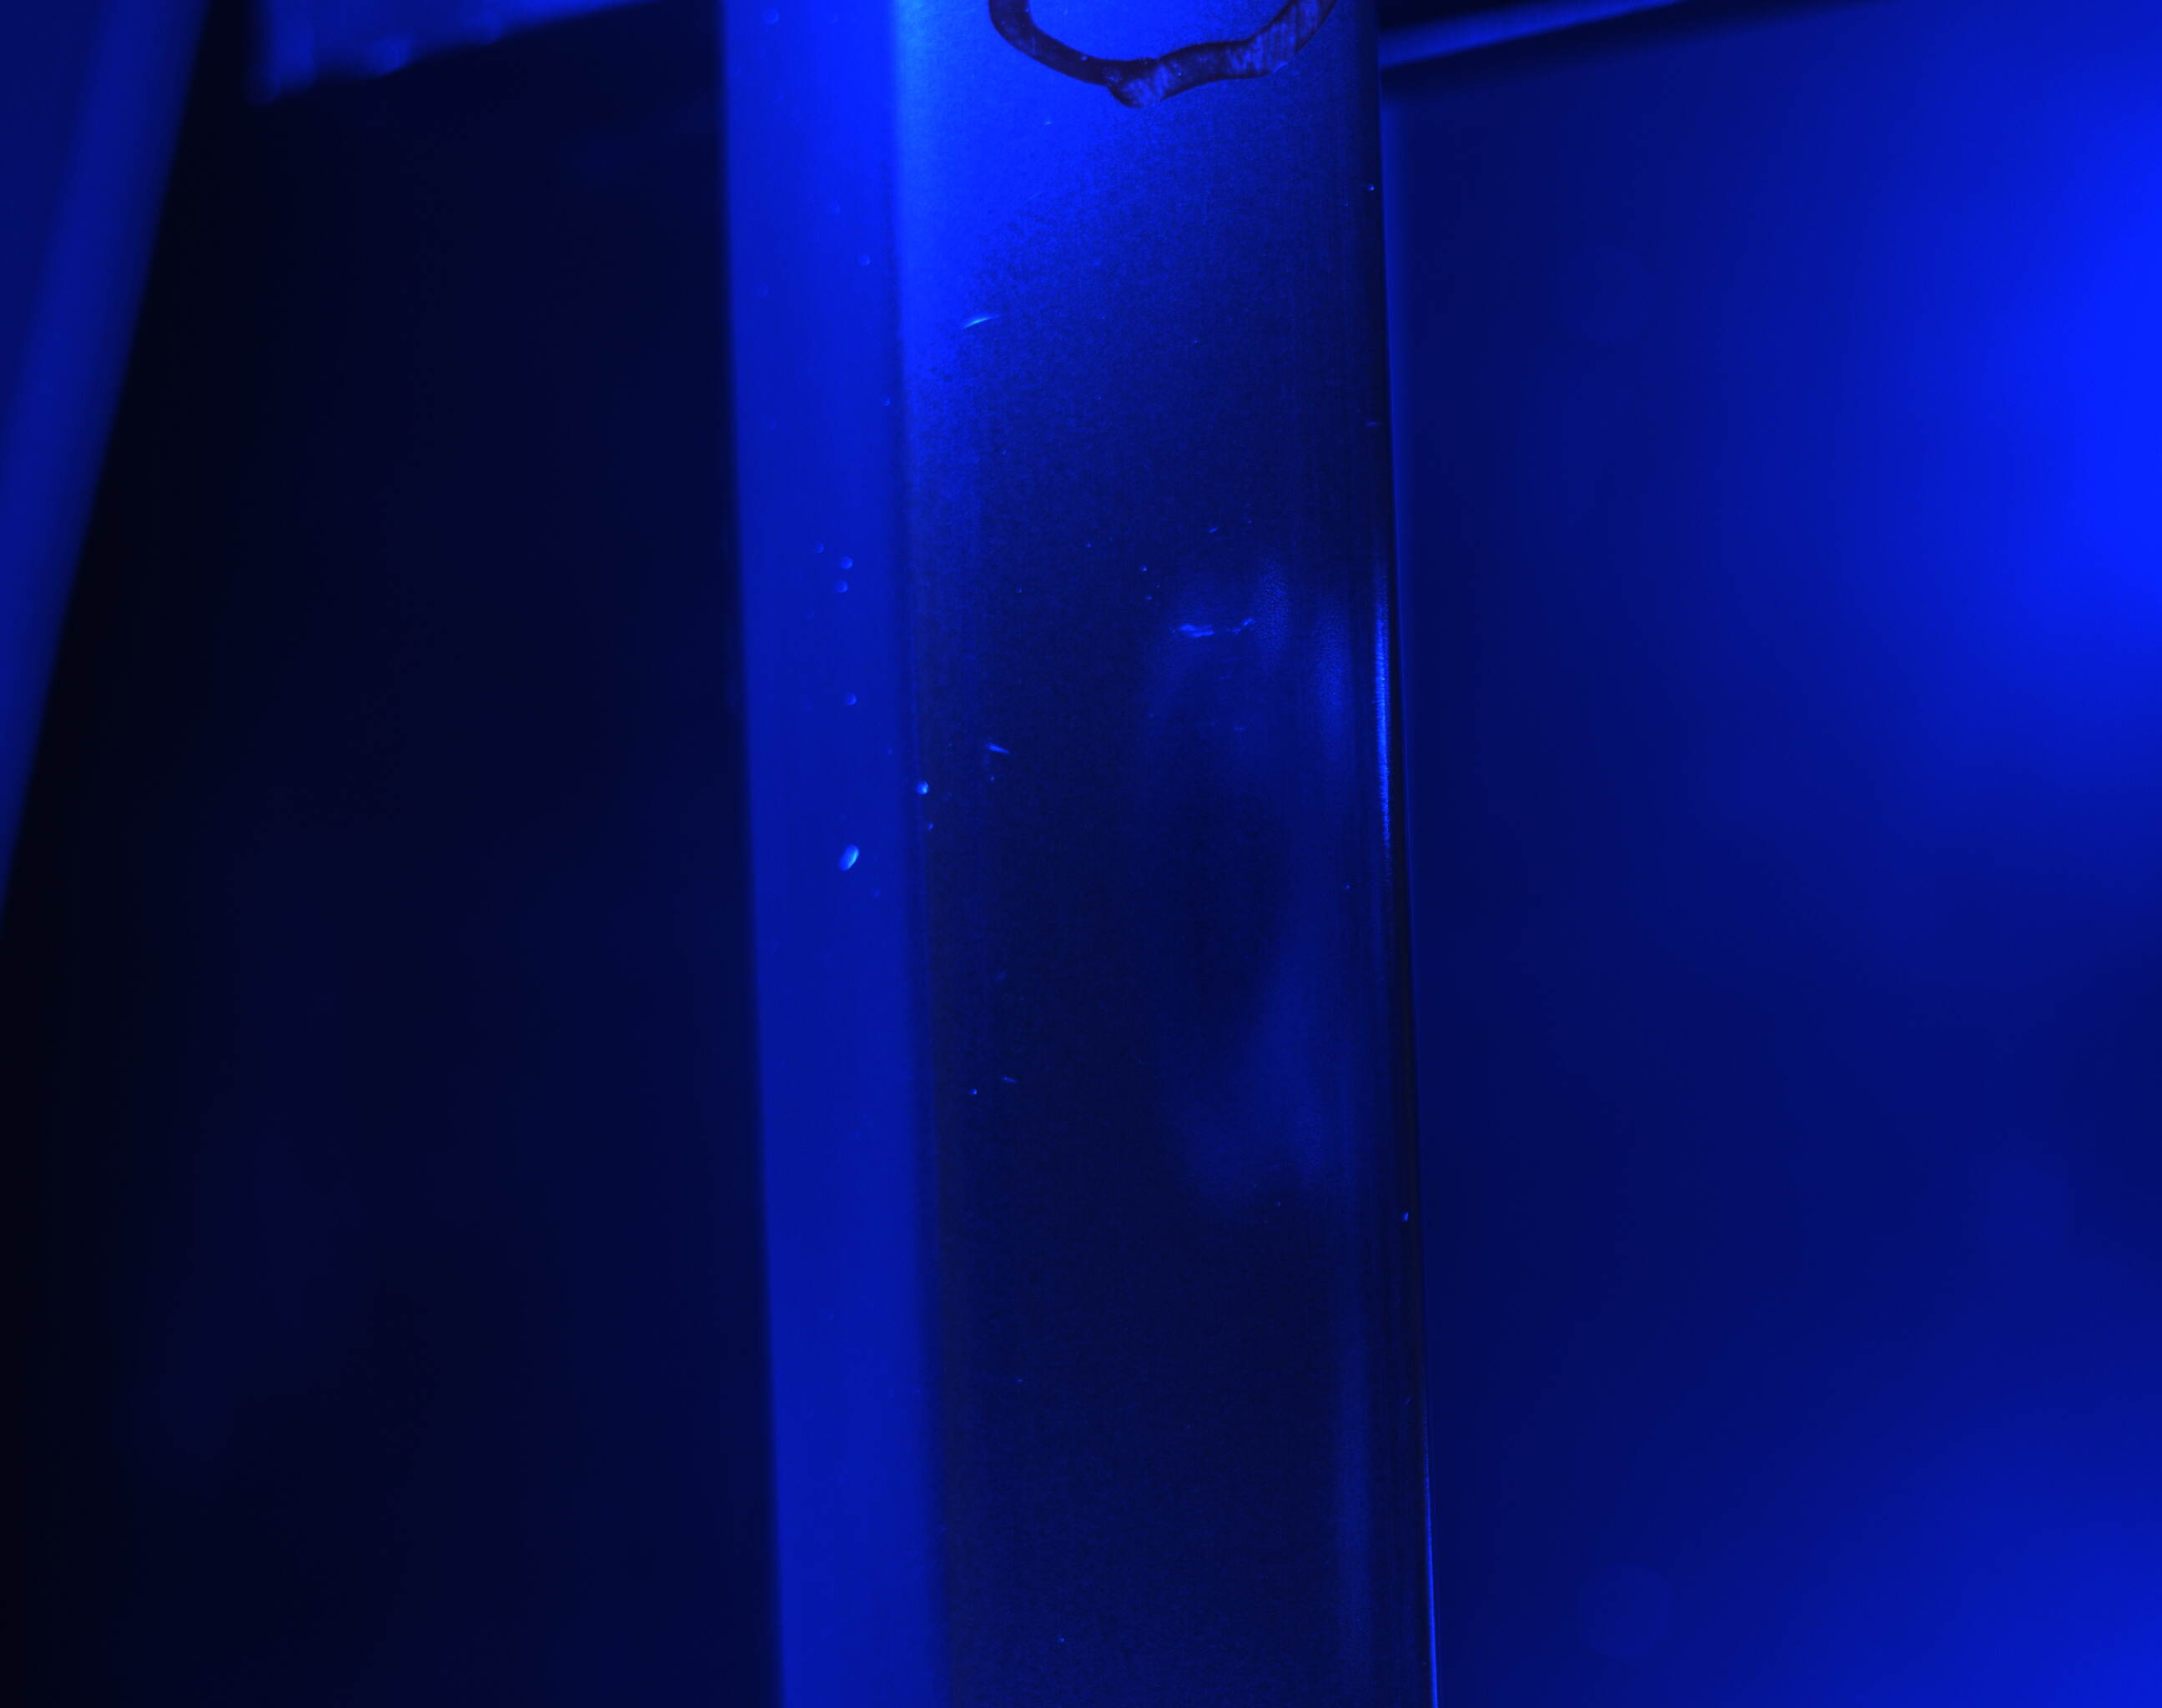NG: (1165, 588, 1264, 665), (955, 291, 1018, 372), (816, 830, 895, 888)
